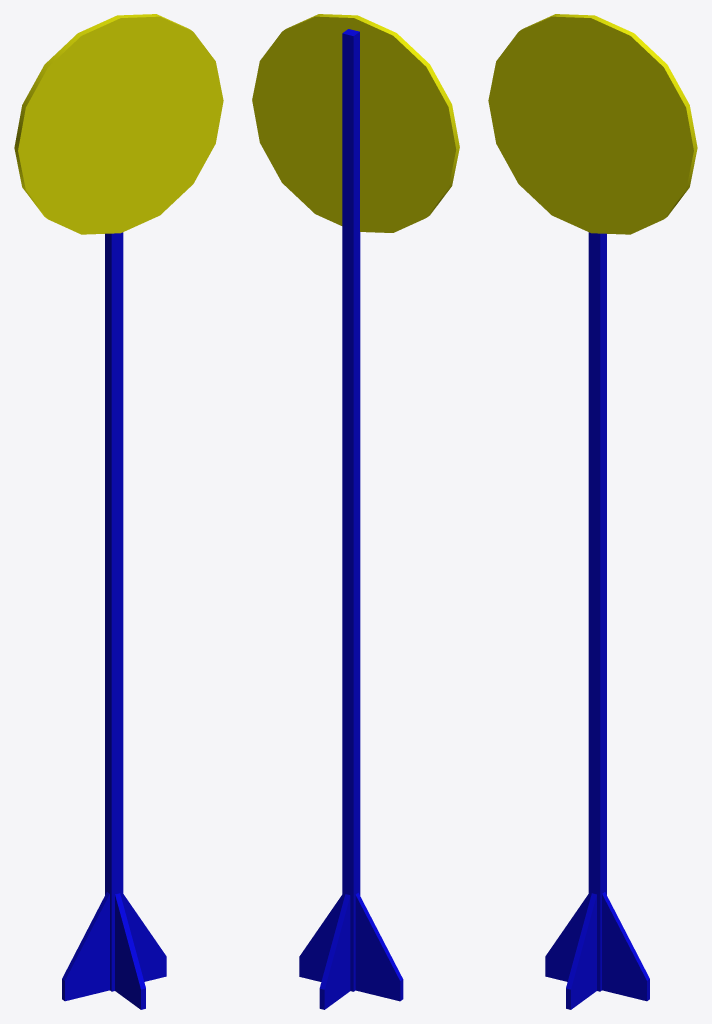
The model's file is Service.fbx.
3 views of the same model, side by side, from view 1: azimuth 30°, elevation 25°; view 2: azimuth 150°, elevation 25°; view 3: azimuth 330°, elevation 25° (orthographic).
Visible parts, largest first — view 1: InfoCircle_01; view 2: InfoCircle_01; view 3: InfoCircle_01.
Boxes of the visible parts, x1,y1,x2,y2 form: InfoCircle_01: (14,14,223,1009); InfoCircle_01: (252,14,459,1009); InfoCircle_01: (488,14,697,1009).
Bounding box in the file's own units: 71.08 × 322 × 35.12.
